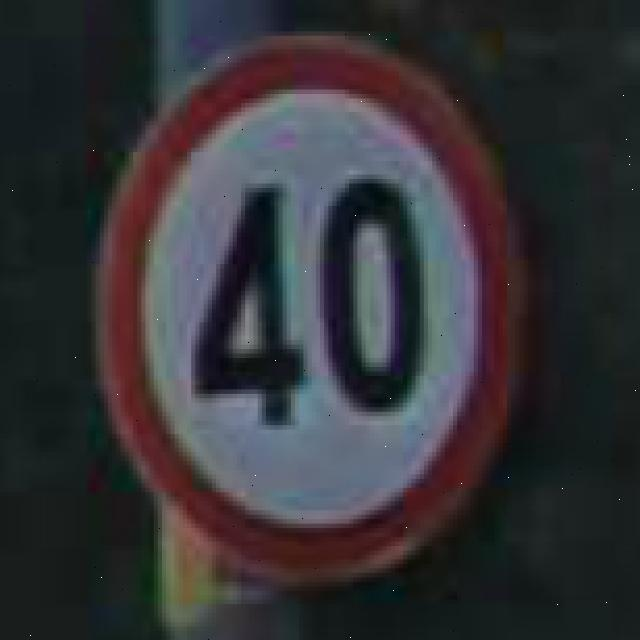speed limit 40: (94, 33, 523, 591)
